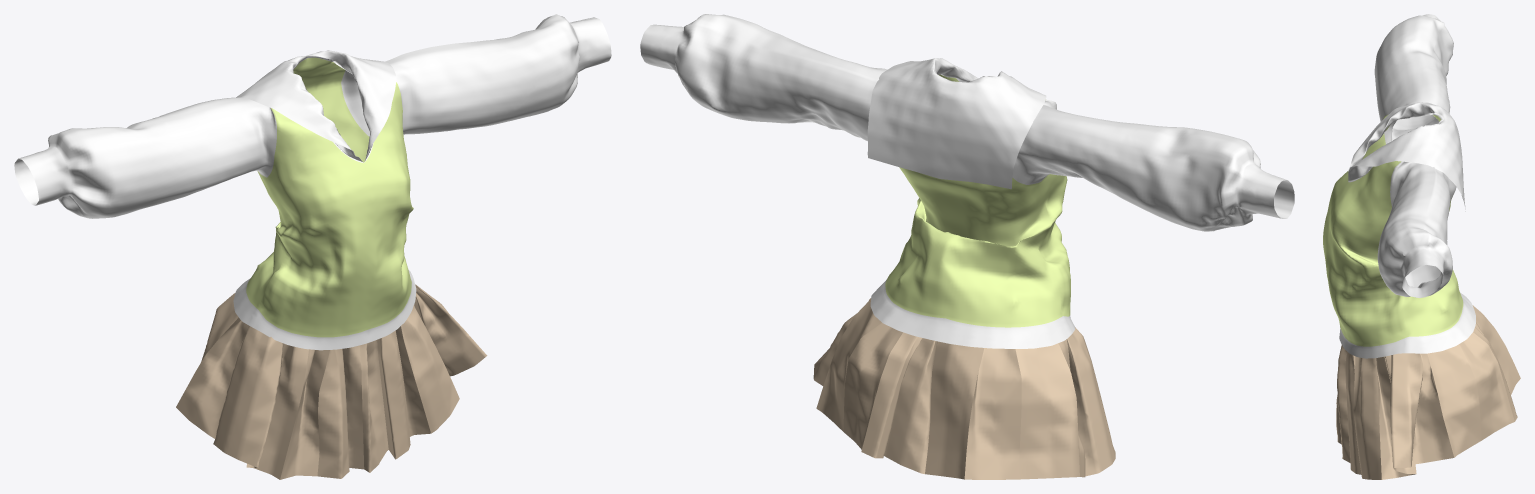
Rendered from natsu_swimsuit_from_mb_remeshed3.fbx.
3 views of the same model, side by side, from view 1: azimuth 30°, elevation 25°; view 2: azimuth 150°, elevation 25°; view 3: azimuth 270°, elevation 25° (orthographic). The views are drawn at different scales.
Visible parts, largest first — view 1: natsu_swimsuit_from_mb_remeshed3; view 2: natsu_swimsuit_from_mb_remeshed3; view 3: natsu_swimsuit_from_mb_remeshed3.
Boxes of the visible parts, left/top/right/bottom form: natsu_swimsuit_from_mb_remeshed3: left=14, top=14, right=611, bottom=479; natsu_swimsuit_from_mb_remeshed3: left=640, top=14, right=1294, bottom=479; natsu_swimsuit_from_mb_remeshed3: left=1323, top=14, right=1520, bottom=479.
Size of the model in its own units: 0.9035 by 0.5715 by 0.3002.
